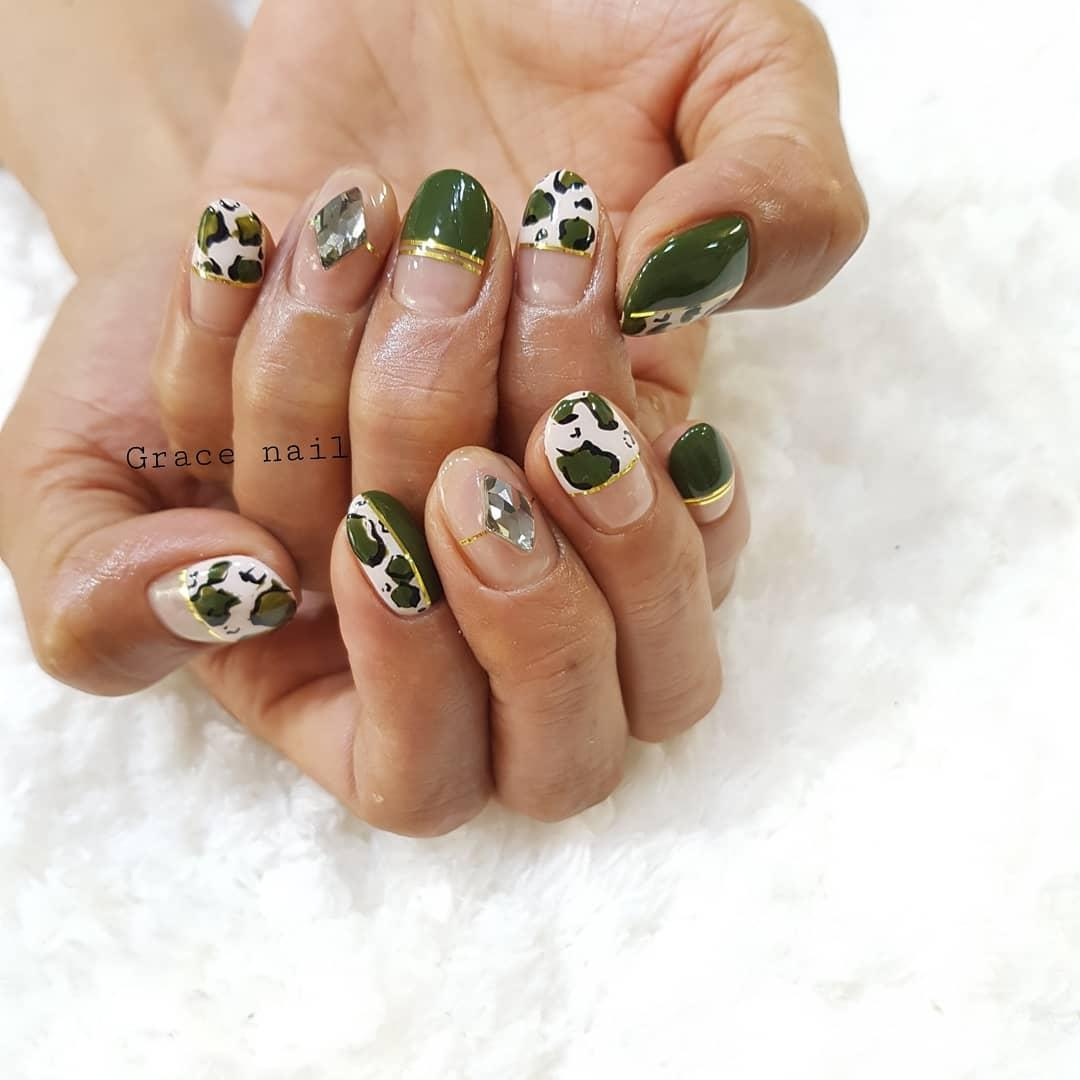nail: (617, 210, 752, 337), (389, 166, 494, 316), (145, 552, 298, 645), (343, 488, 443, 618), (665, 420, 736, 524), (307, 185, 369, 268)
